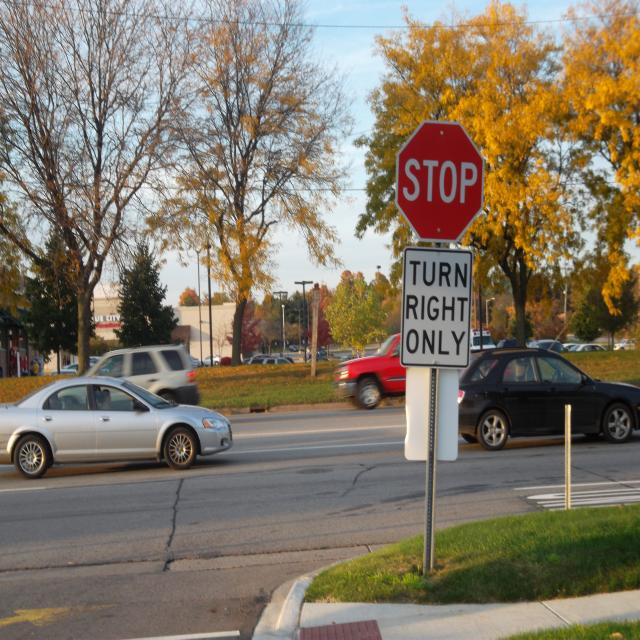regulatory: (392, 248, 474, 368)
stop: (378, 112, 489, 249)
